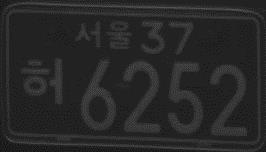2: (205, 61, 251, 138), (118, 60, 164, 135)
3: (139, 17, 167, 58)
5: (166, 60, 204, 137)
6: (76, 57, 118, 133)
7: (167, 18, 195, 57)
서울_O: (72, 19, 133, 53)
허: (18, 54, 67, 107)
